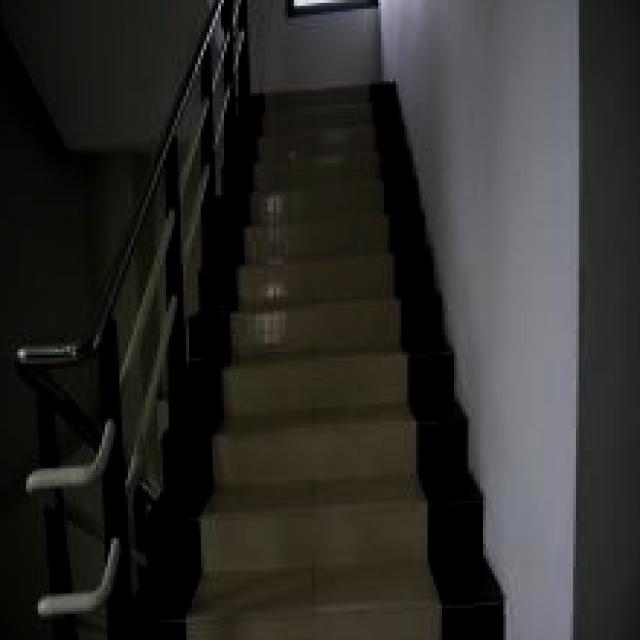upstair: (170, 120, 461, 638)
